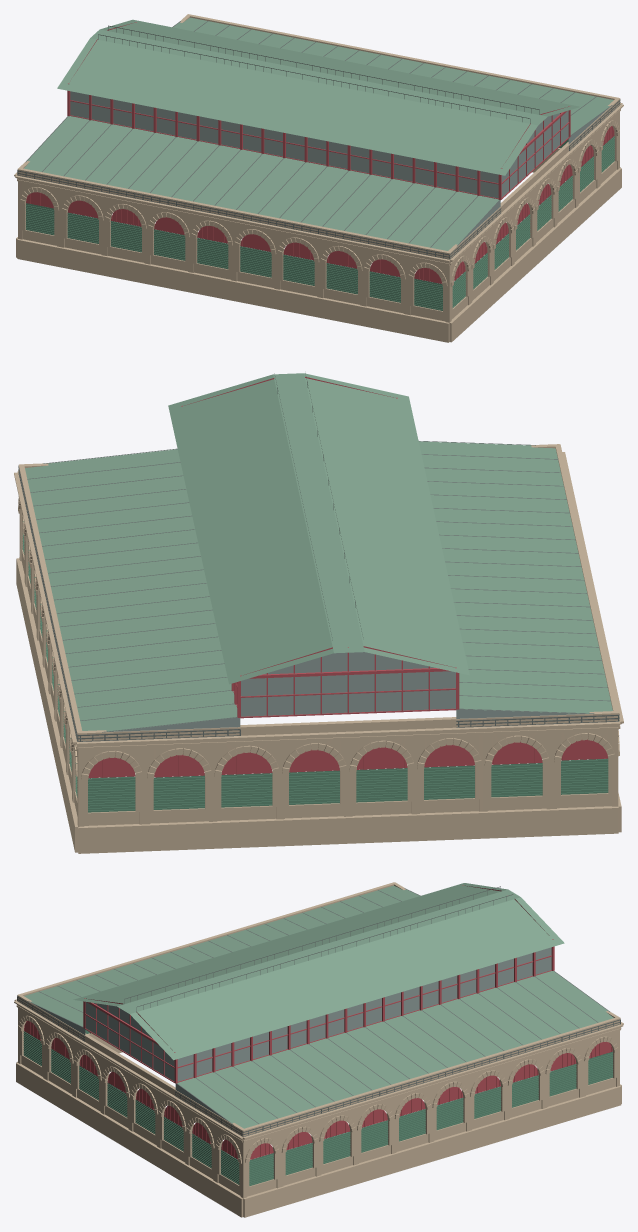
File: mercato_centrale.glb
The picture shows the model from 3 angles, top to bottom: view 1: azimuth 30°, elevation 25°; view 2: azimuth 150°, elevation 25°; view 3: azimuth 270°, elevation 25°; orthographic projection. The views are drawn at different scales.
Parts seen in each view (by area): view 1: mercato_padiglioni@1874-99999.lead, mercato@1874-99999.stone, mercato_padiglioni@1874-99999.glazing, mercato@1874-99999.shutter, mercato_padiglioni@1874-99999.iron, mercato@1874-99999.red, mercato_padiglioni@1874-99999.red; view 2: mercato_padiglioni@1874-99999.lead, mercato@1874-99999.stone, mercato@1874-99999.shutter, mercato_padiglioni@1874-99999.glazing, mercato_padiglioni@1874-99999.iron, mercato@1874-99999.red, mercato_padiglioni@1874-99999.red; view 3: mercato_padiglioni@1874-99999.lead, mercato@1874-99999.stone, mercato@1874-99999.shutter, mercato_padiglioni@1874-99999.glazing, mercato_padiglioni@1874-99999.iron, mercato@1874-99999.red, mercato_padiglioni@1874-99999.red.
Boxes of the visible parts, x1,y1,x2,y2 form: mercato_padiglioni@1874-99999.lead: (24, 17, 613, 250); mercato@1874-99999.stone: (14, 14, 623, 342); mercato_padiglioni@1874-99999.glazing: (70, 91, 608, 242); mercato@1874-99999.shutter: (25, 136, 614, 310); mercato_padiglioni@1874-99999.iron: (17, 21, 620, 259); mercato@1874-99999.red: (26, 126, 614, 283); mercato_padiglioni@1874-99999.red: (67, 22, 570, 200); mercato_padiglioni@1874-99999.lead: (25, 373, 612, 731); mercato@1874-99999.stone: (14, 444, 623, 853); mercato@1874-99999.shutter: (22, 521, 608, 812); mercato_padiglioni@1874-99999.glazing: (109, 652, 585, 731); mercato_padiglioni@1874-99999.iron: (18, 373, 619, 741); mercato@1874-99999.red: (88, 739, 607, 778); mercato_padiglioni@1874-99999.red: (181, 376, 459, 718); mercato_padiglioni@1874-99999.lead: (24, 883, 613, 1128); mercato@1874-99999.stone: (14, 882, 623, 1217); mercato@1874-99999.shutter: (23, 1029, 613, 1186); mercato_padiglioni@1874-99999.glazing: (31, 947, 551, 1121); mercato_padiglioni@1874-99999.iron: (17, 886, 620, 1136); mercato@1874-99999.red: (24, 1021, 612, 1159); mercato_padiglioni@1874-99999.red: (83, 885, 554, 1083).
Size of the model in its own units: 107 by 28.93 by 109.
